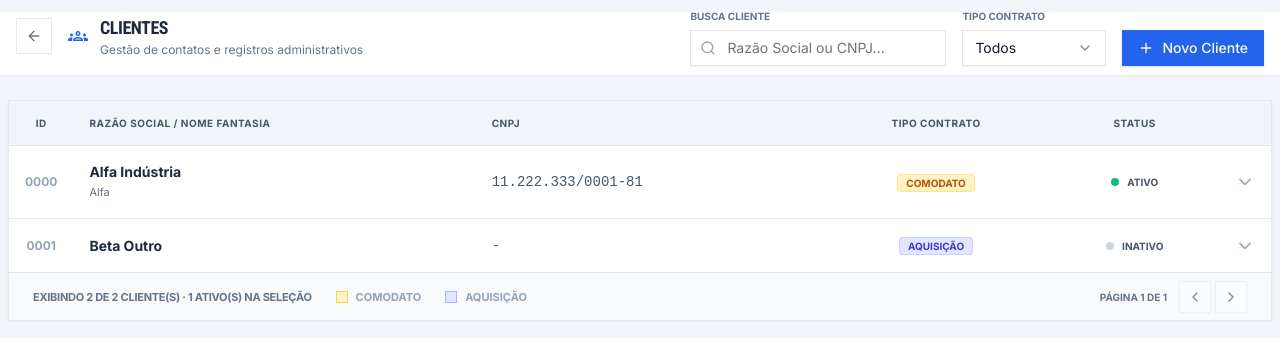
it: ClientesPage — fluxo integrado › filtro por busca restringe linhas visíveis
Expected: the text "Beta Outro" is shown, [89,236,162,254]
Type "Alfa" into the field with placeholder "Razão Social ou CNPJ...". click: (818, 48)
box: [690,30,946,66]
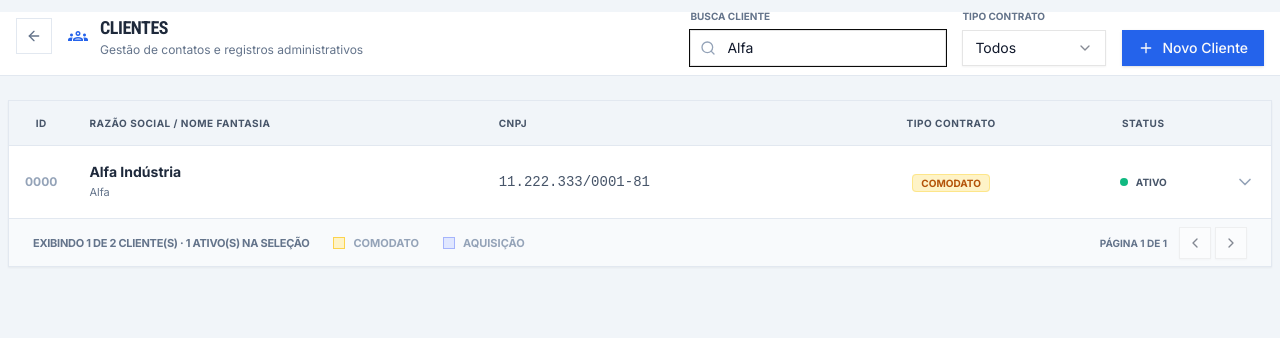
Expected: the text "Alfa Indústria" is shown, [89,163,181,180]
Result: the text "Beta Outro" is gone
Result: the number of rows is 2 at [9,101,1271,146]; [9,146,1271,218]
